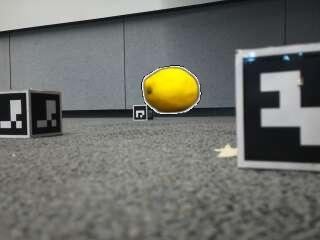lemon: (145, 68, 199, 112)
